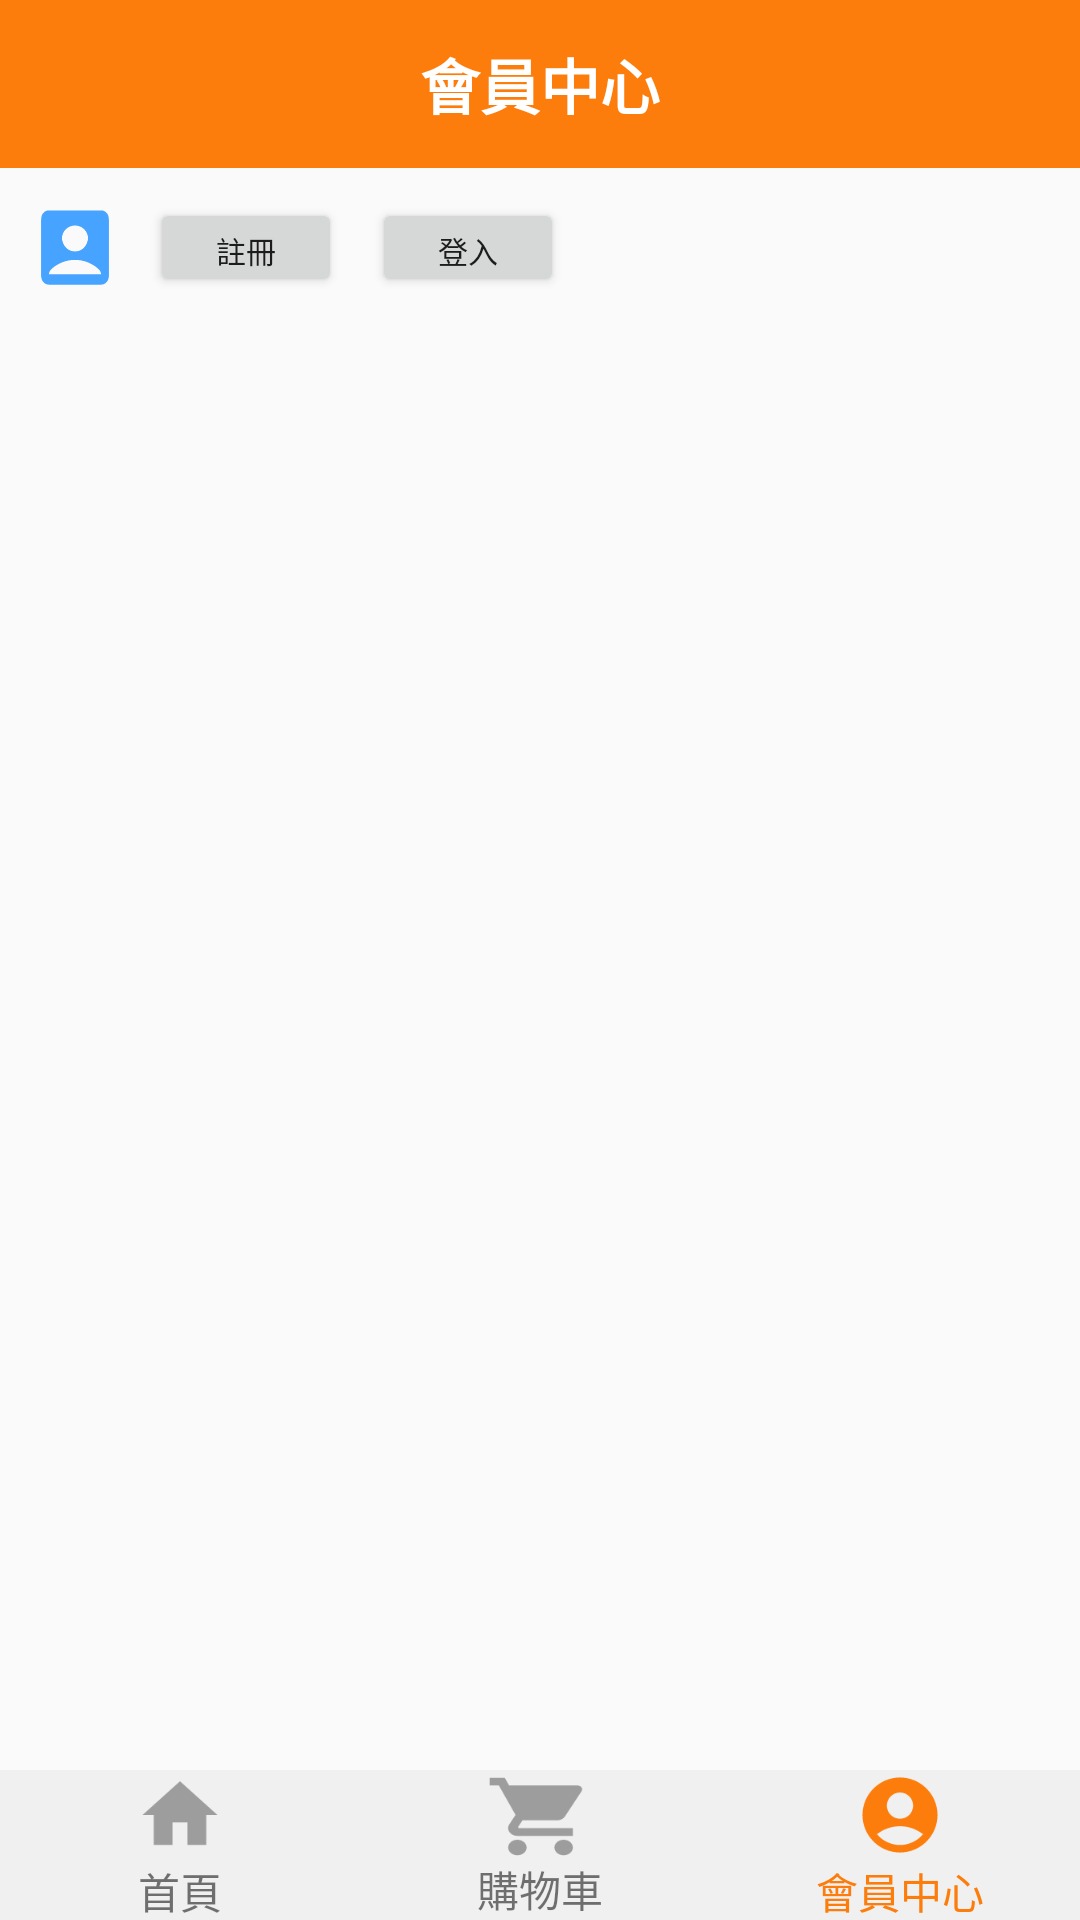

Where icons sit on this 1080px x 1920px app screen, as (left=x1, top=y1, right=x2, bottom=y2):
user: (left=41, top=210, right=109, bottom=285)
